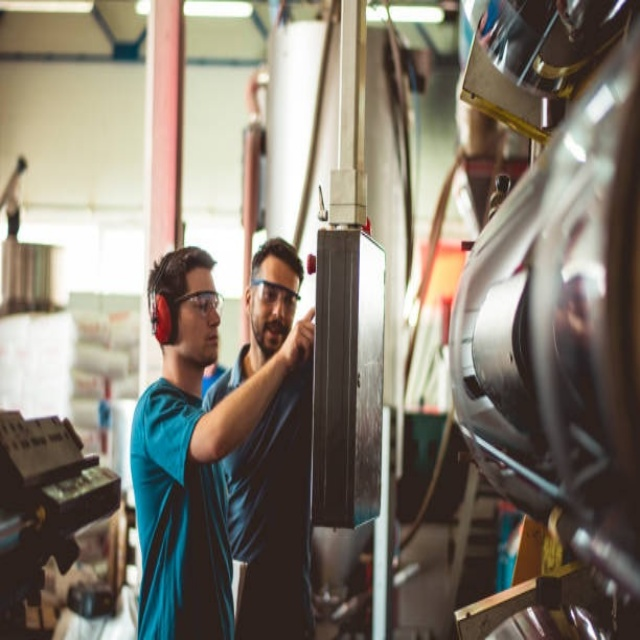Gafas: (172, 290, 224, 316), (250, 279, 301, 305)
Sin_guantes: (280, 306, 318, 369)
Sin_mascara: (260, 317, 282, 355), (197, 323, 220, 356)
